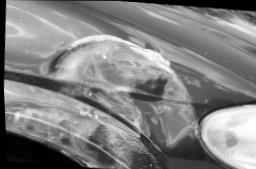Fender: (3, 0, 232, 169)
